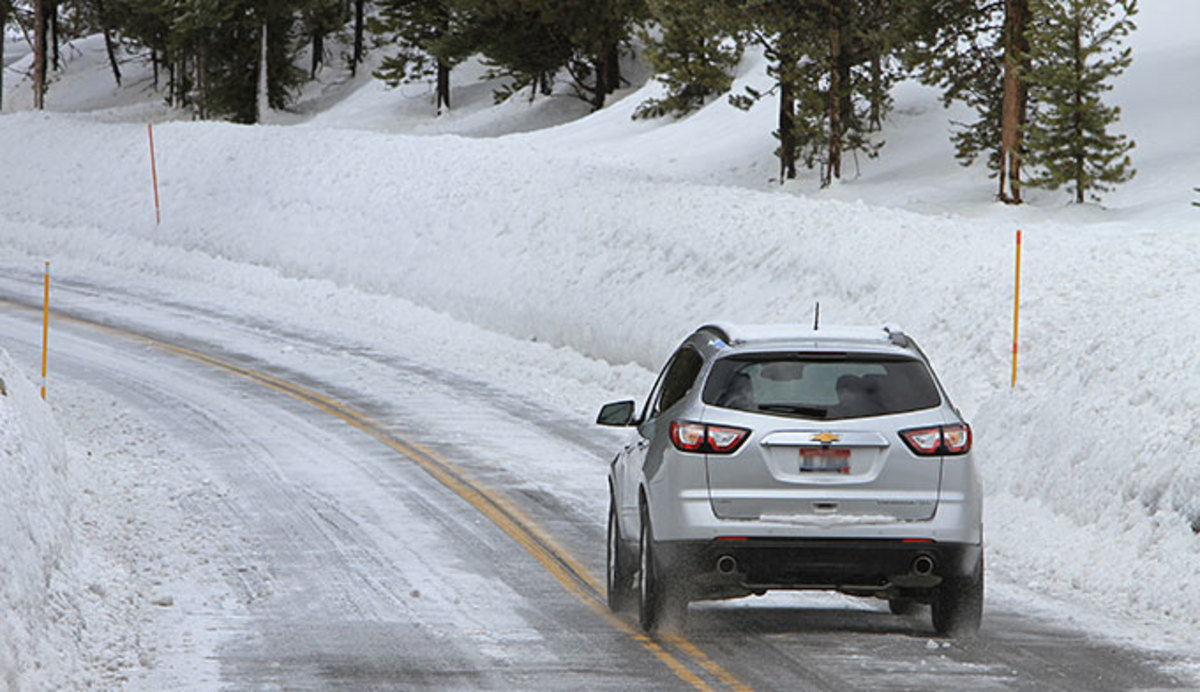car: (595, 319, 990, 635)
